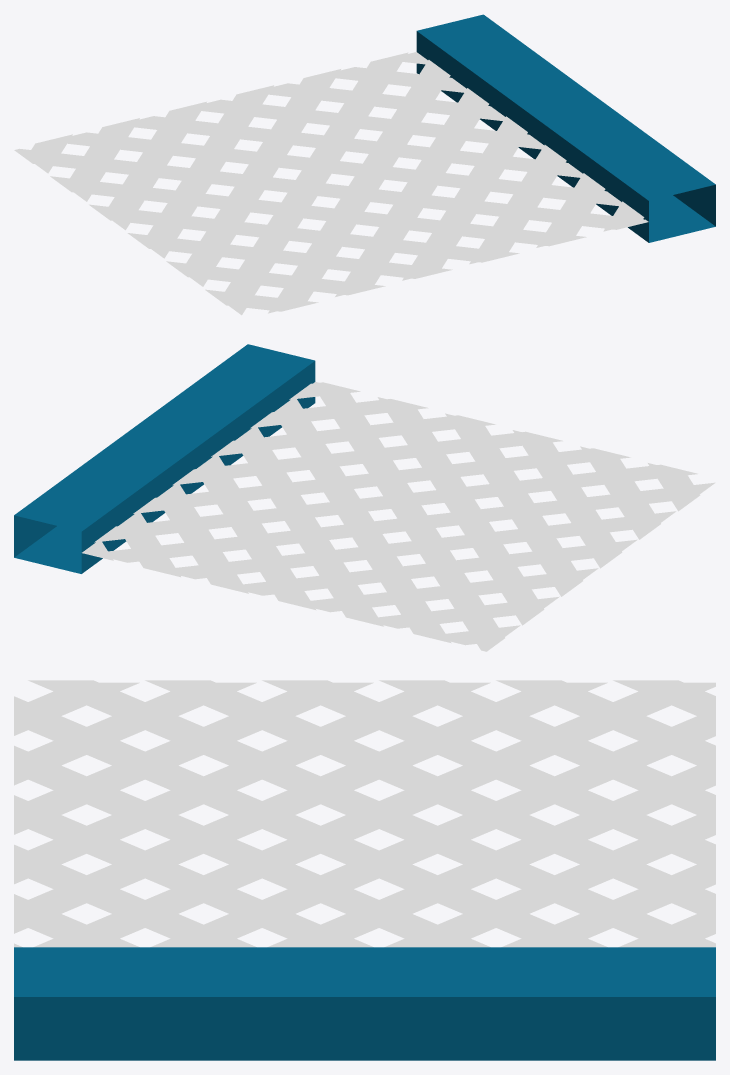
The model's file is G02_022_Floor_Mesh_ASD.fbx.
The picture shows the model from 3 angles, top to bottom: view 1: azimuth 30°, elevation 25°; view 2: azimuth 150°, elevation 25°; view 3: azimuth 270°, elevation 25°; orthographic projection. The views are drawn at different scales.
Visible parts, largest first — view 1: 平面.003, 008_Mesh_AD_B.001; view 2: 平面.003, 008_Mesh_AD_B.001; view 3: 平面.003, 008_Mesh_AD_B.001.
Boxes of the visible parts, bbox=[...] form: 平面.003: bbox=[14, 52, 648, 315]; 008_Mesh_AD_B.001: bbox=[416, 14, 715, 242]; 平面.003: bbox=[82, 382, 715, 651]; 008_Mesh_AD_B.001: bbox=[14, 344, 315, 573]; 平面.003: bbox=[14, 680, 715, 947]; 008_Mesh_AD_B.001: bbox=[14, 947, 715, 1060].
Size of the model in its own units: 350 by 30 by 300.
